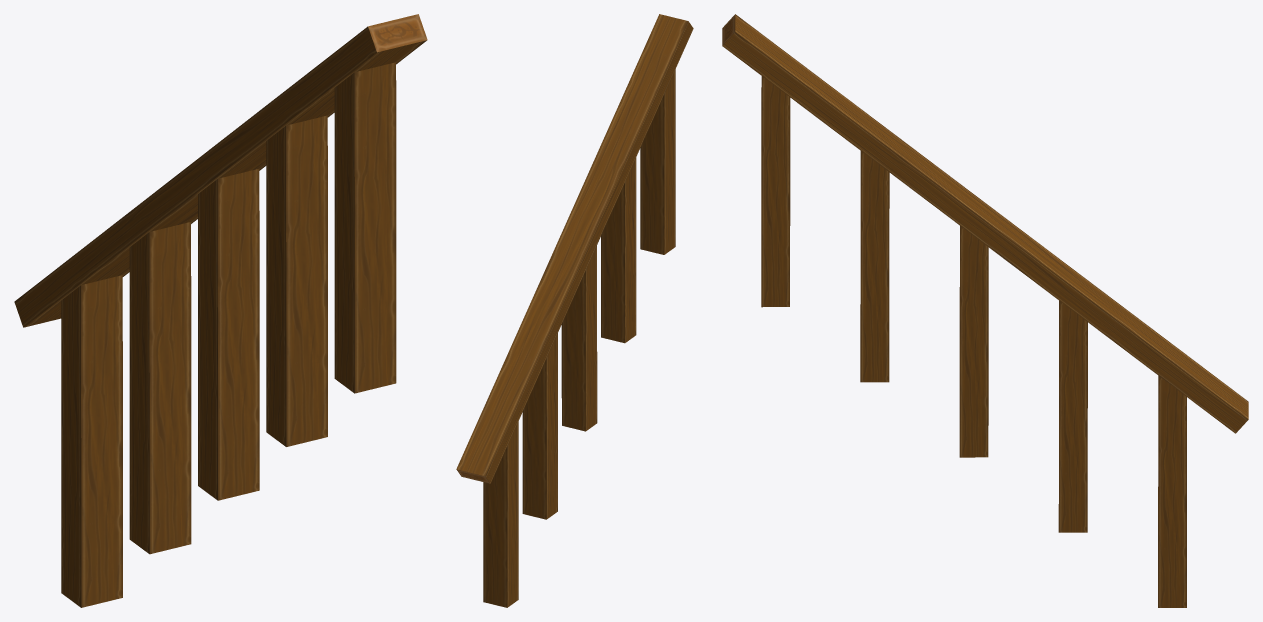
Rendered from SM_Stairs_Interior_C_Handrails.fbx.
3 renders of one model, left to right at view 1: azimuth 30°, elevation 25°; view 2: azimuth 150°, elevation 25°; view 3: azimuth 270°, elevation 25°, orthographic. The views are drawn at different scales.
Visible parts, largest first — view 1: SM_Stairs_Interior_C_Handrails; view 2: SM_Stairs_Interior_C_Handrails; view 3: SM_Stairs_Interior_C_Handrails.
Part boxes in pixels (x1,y1,x2,y2): SM_Stairs_Interior_C_Handrails: (14,14,427,607); SM_Stairs_Interior_C_Handrails: (456,14,693,607); SM_Stairs_Interior_C_Handrails: (722,14,1248,607).
Bounding box in the file's own units: 0.1491 × 2.23 × 1.85.
